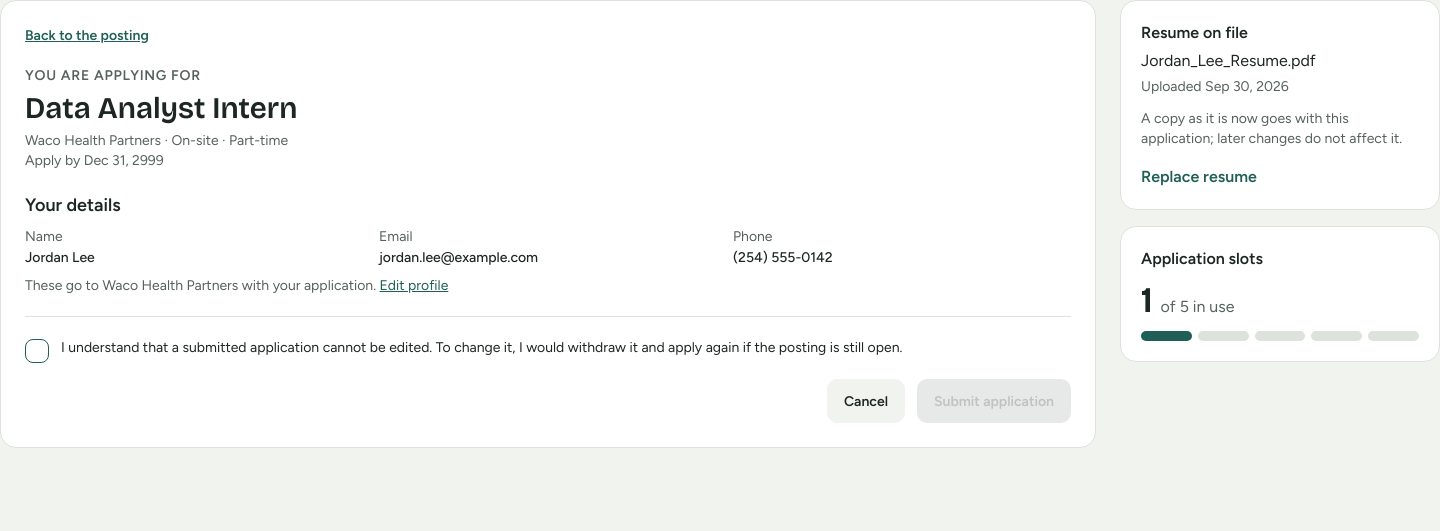
ApplyForm › sends the applicant's token and says when the session has ended (ADR-0010)
Click the checkbox. click: (37,351)
box: [25,339,49,363]
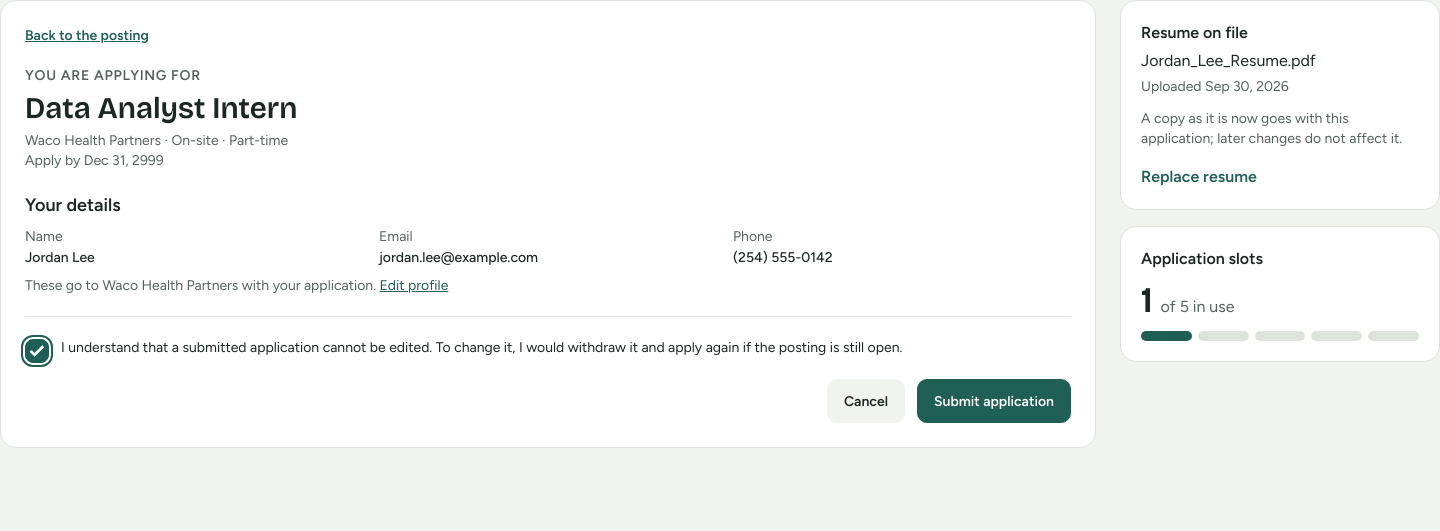
Click the button "Submit application". click: (994,401)
box: [917,379,1071,423]
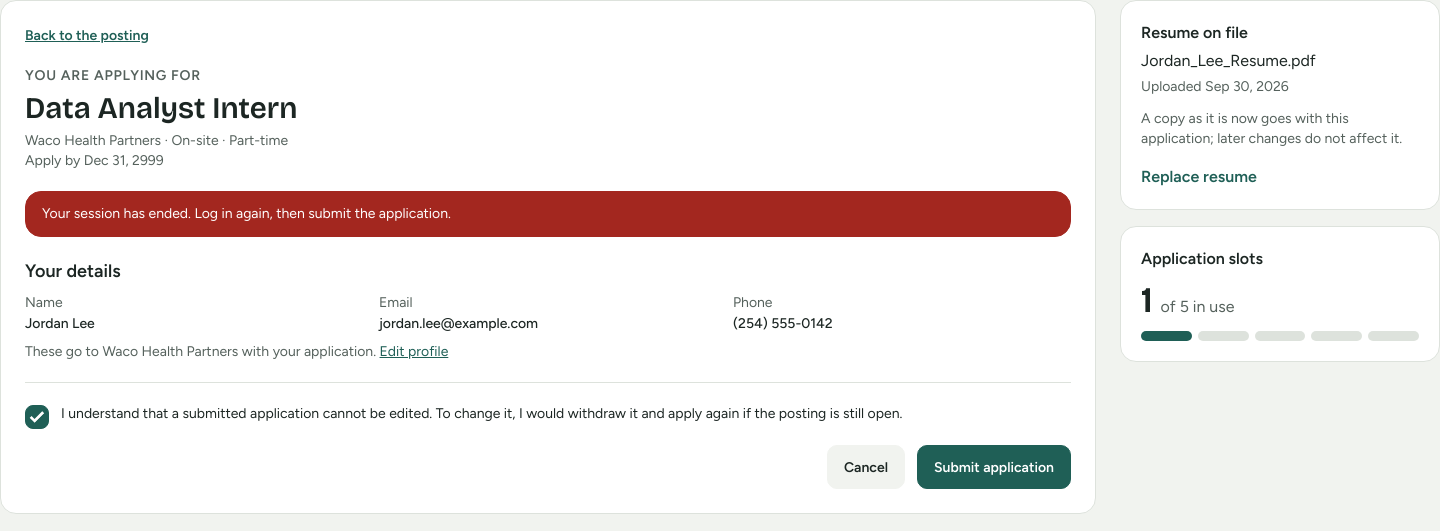
Expected: the message shows "Your session has ended", [42,205,451,222]
